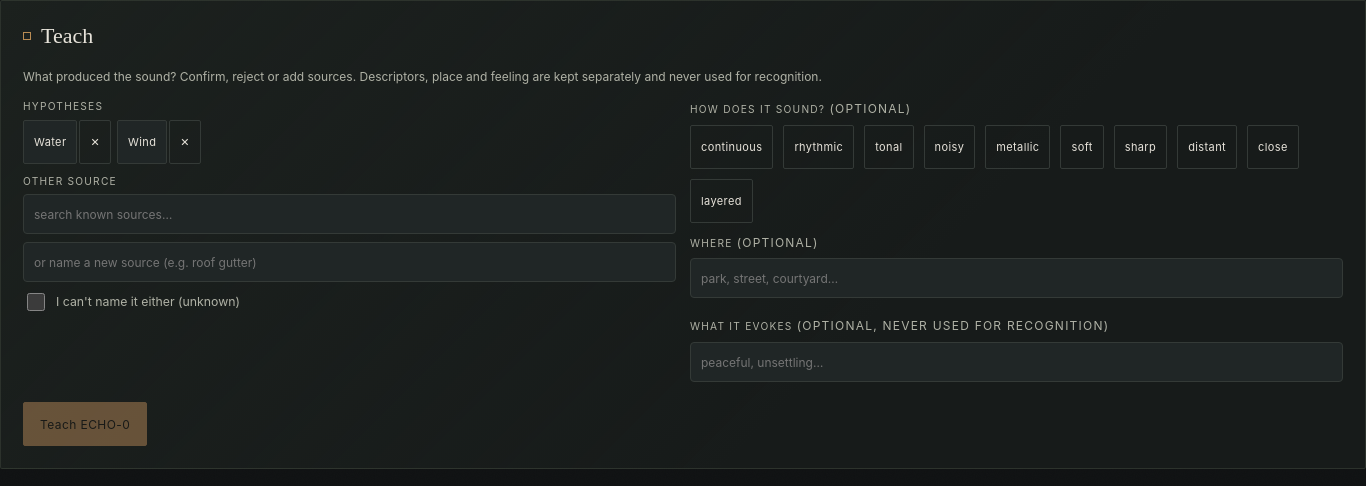
Test case: TeachPanel › rejecting a hypothesis and naming a new source sends new_labels + rejected ids; unknown clears both
Click the button named "reject Water" at (95, 142), box 79,120 -> 111,164
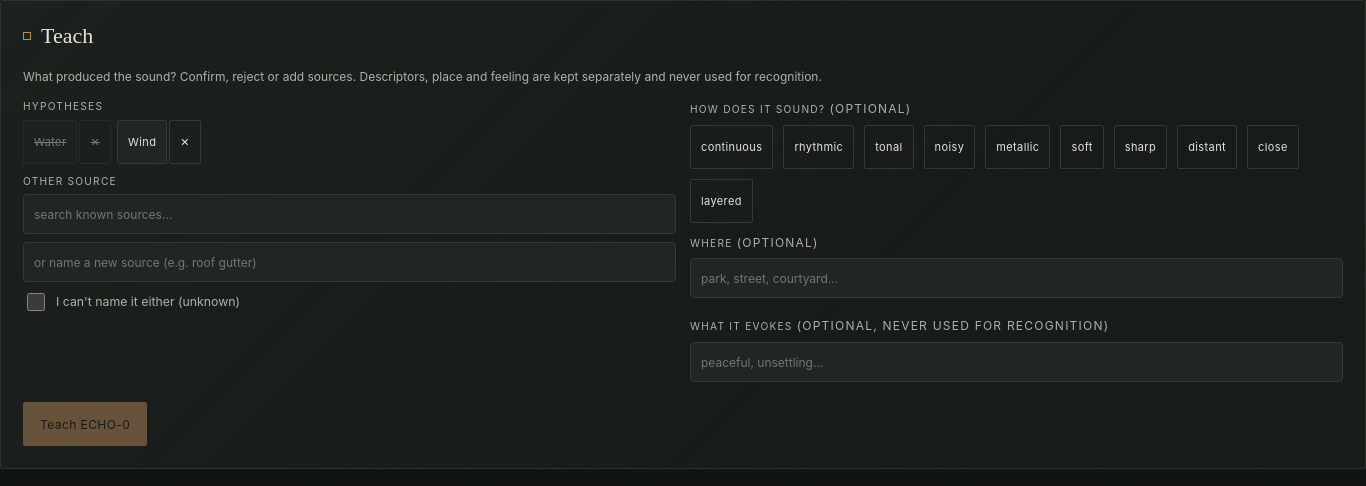
Type "Roof gutter" into the field named "new label" at (350, 262), box 23,242 -> 676,282
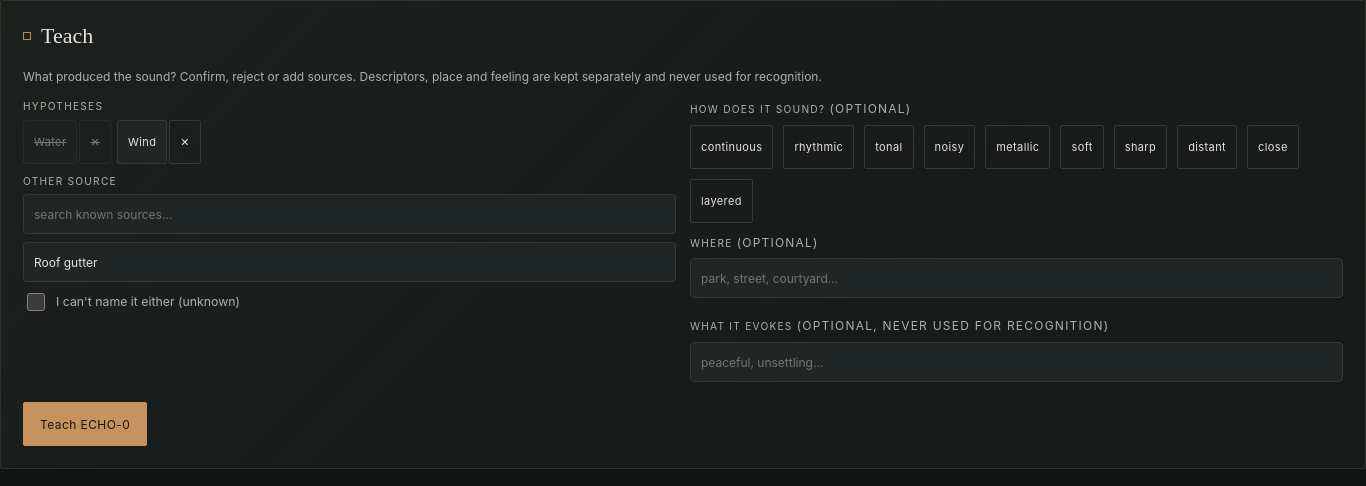
Click the button "Teach ECHO-0" at (85, 424), box 23,402 -> 147,446
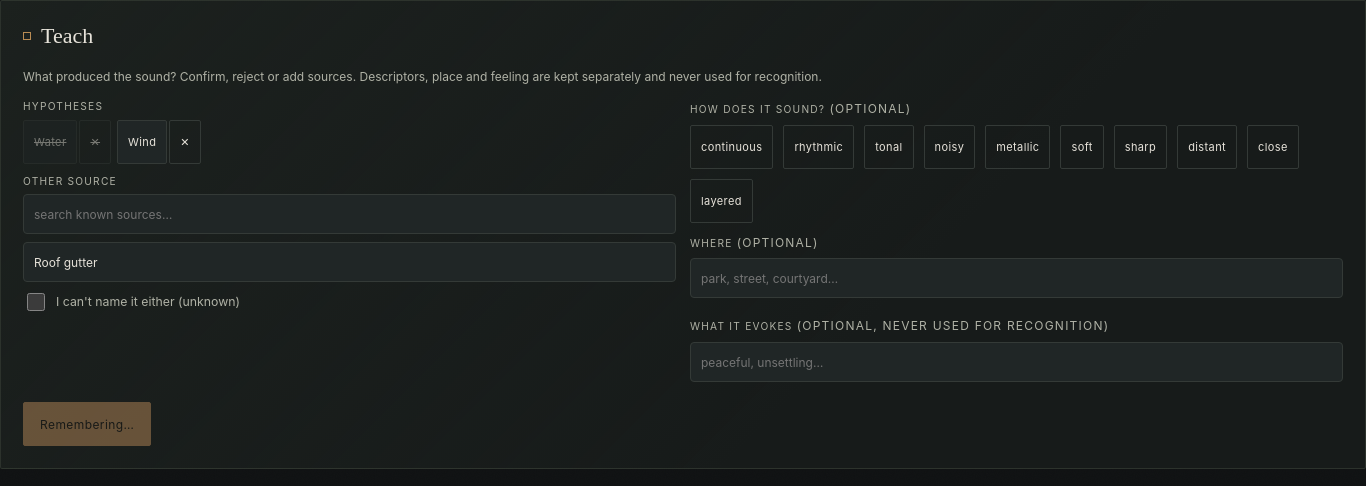
Click the checkbox labelled "I can't name it either (unknown)" at (36, 302), box 27,293 -> 45,311
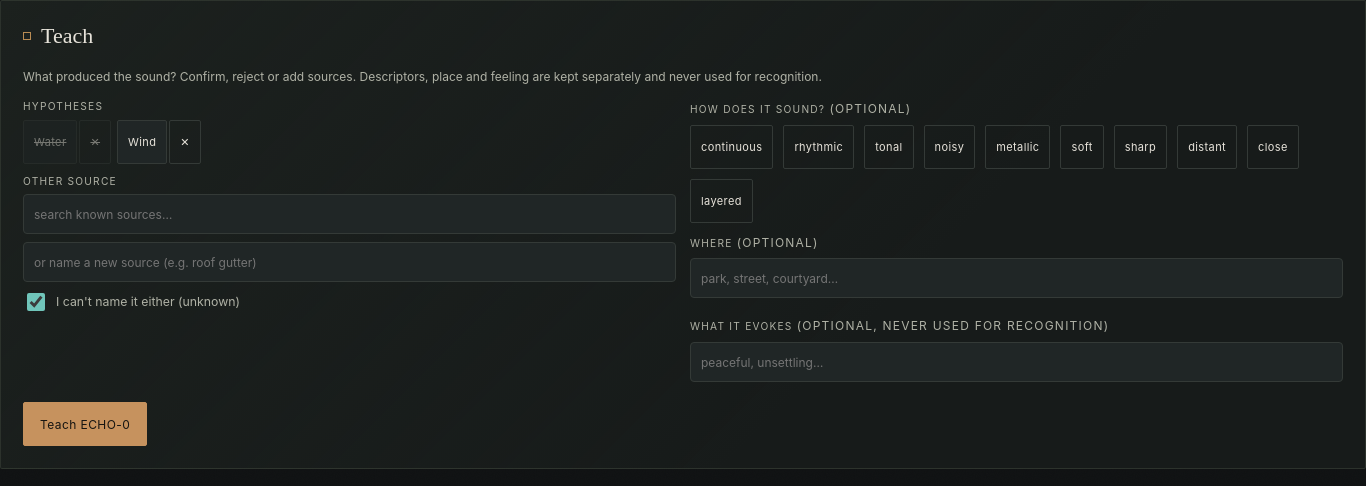
Check: the field named "new label" is empty, box 23,242 -> 676,282
Check: the button "Teach ECHO-0" is enabled, box 23,402 -> 147,446
